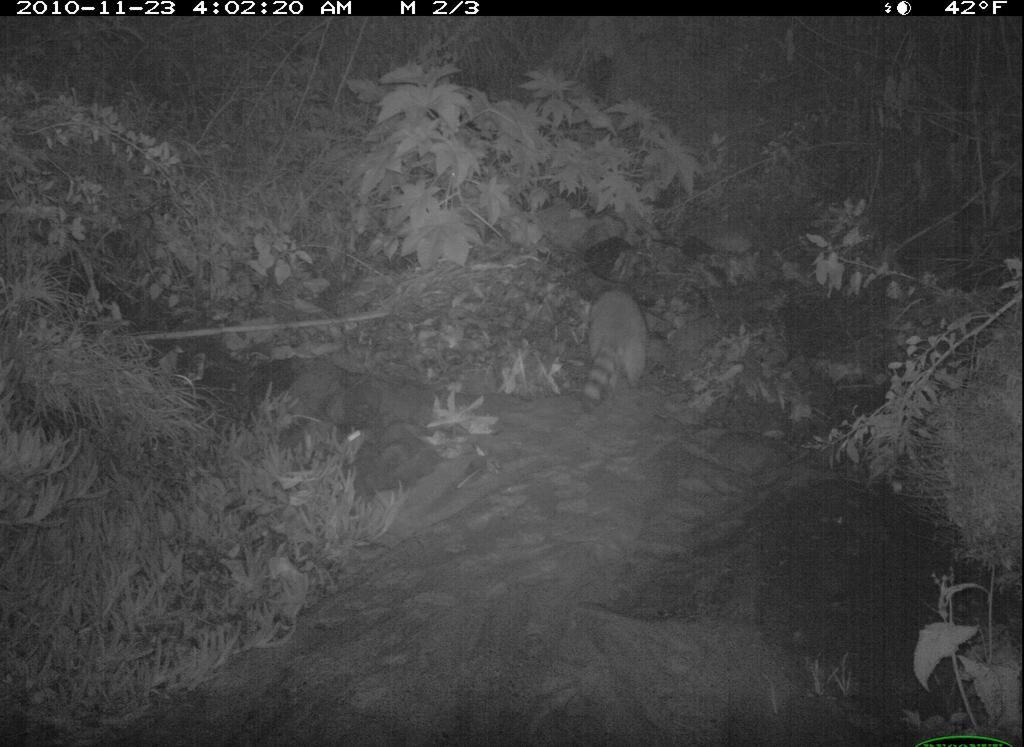raccoon: (570, 272, 658, 415)
